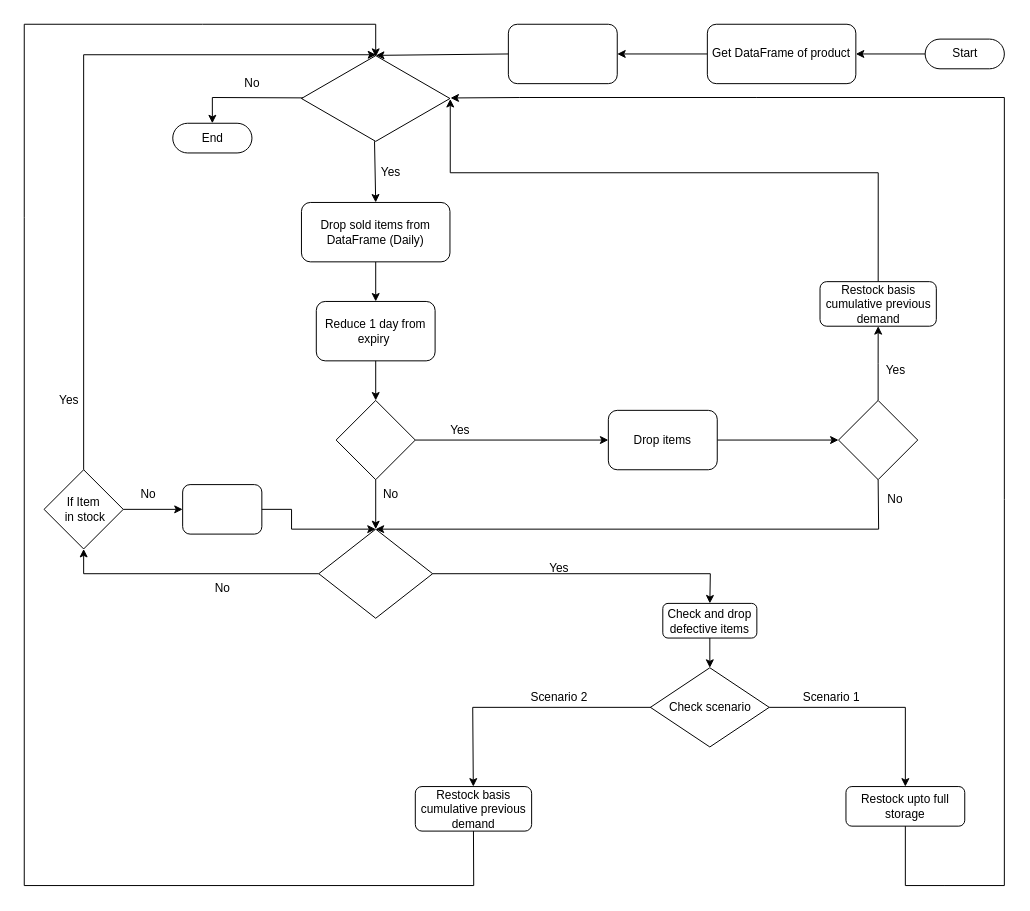
This 1030x911 diagram has some shape labels left out. The shapes that lost their labels are listed below. From the top down, each one's centre as x and y in pixels, then its label:
At point (562, 53): "Daily demand for each item".
At point (375, 98): "If Demand present".
At point (375, 439): "If expired".
At point (878, 439): "If Scenario 3".
At point (222, 509): "Increment missed items".
At point (375, 573): "Check if end of week".
